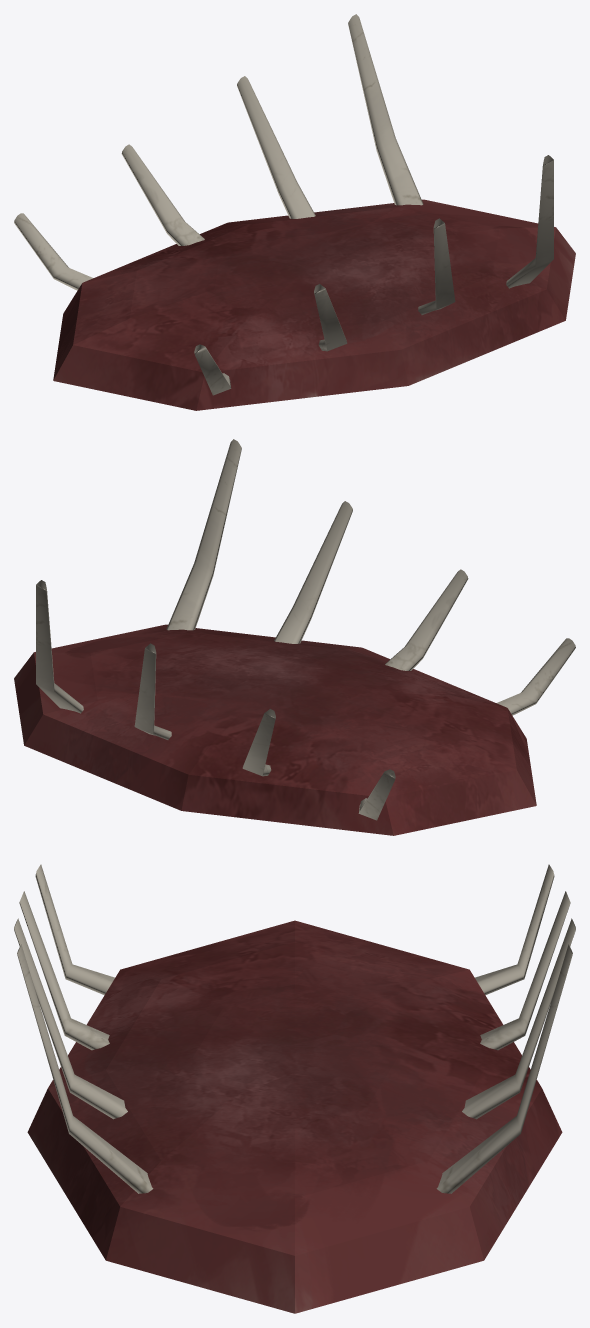
Rendered from Carcass.fbx.
3 views of the same model, one above another, from view 1: azimuth 30°, elevation 25°; view 2: azimuth 150°, elevation 25°; view 3: azimuth 270°, elevation 25° (orthographic). The views are drawn at different scales.
Visible parts, largest first — view 1: pSphere2; view 2: pSphere2; view 3: pSphere2.
Part boxes in pixels (x1,y1,x2,y2): pSphere2: (14, 14, 575, 410); pSphere2: (14, 439, 575, 835); pSphere2: (14, 864, 575, 1313).
Size of the model in its own units: 24.22 by 8.81 by 15.84.
